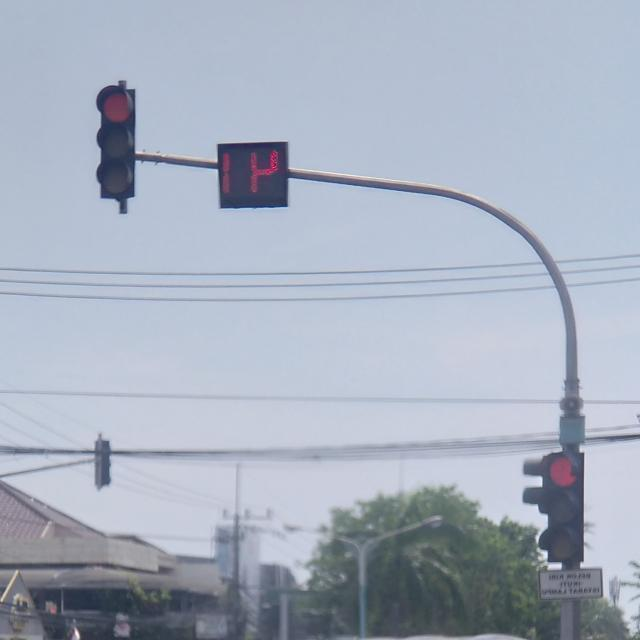red_light: (520, 450, 582, 560), (94, 80, 133, 210)
